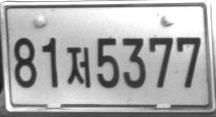1: (39, 36, 66, 88)
3: (122, 37, 146, 90)
5: (96, 37, 120, 89)
7: (148, 36, 174, 89), (176, 36, 201, 88)
8: (12, 35, 38, 88)
저: (65, 46, 91, 88)
